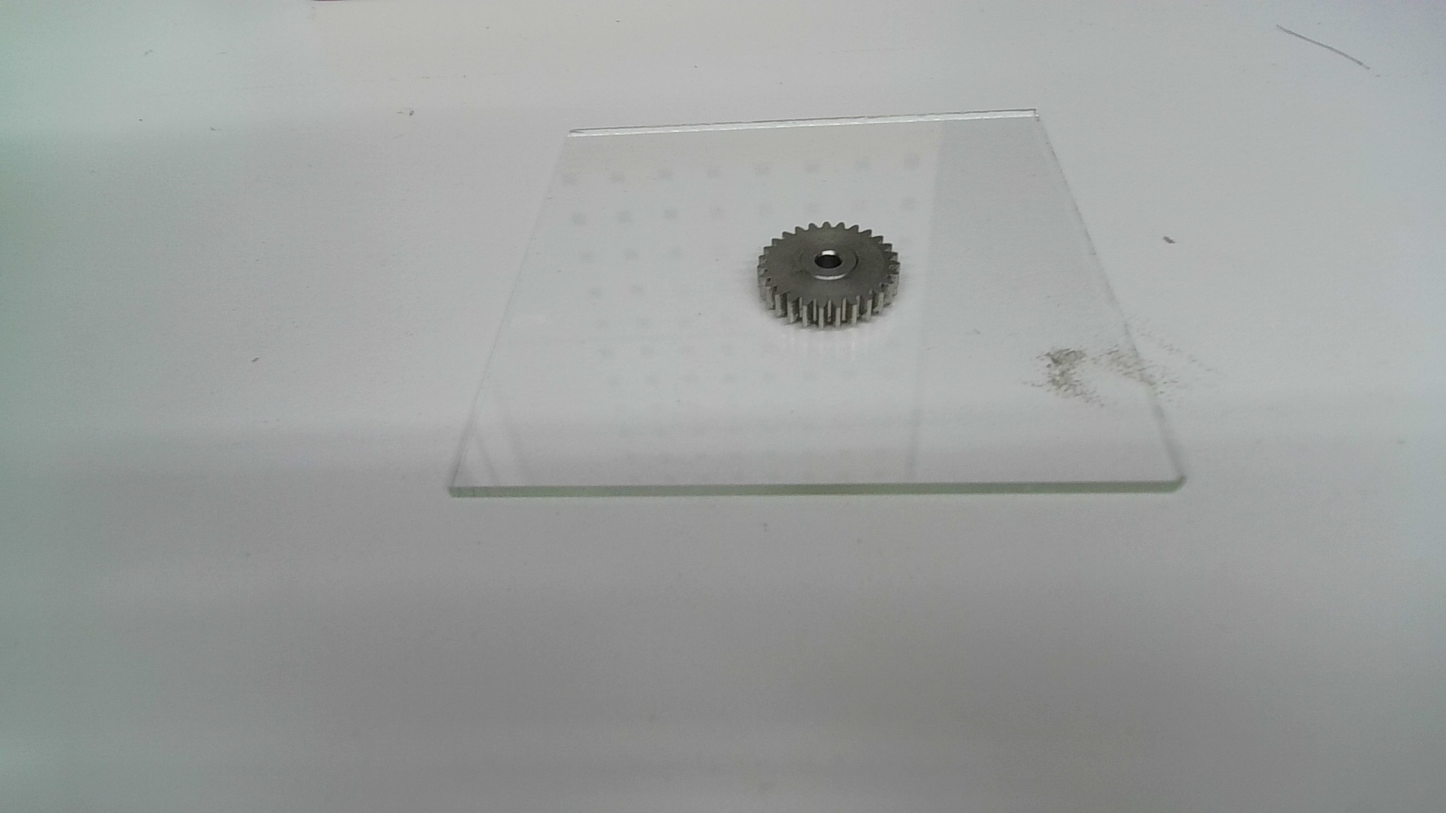gear: (756, 221, 902, 331)
